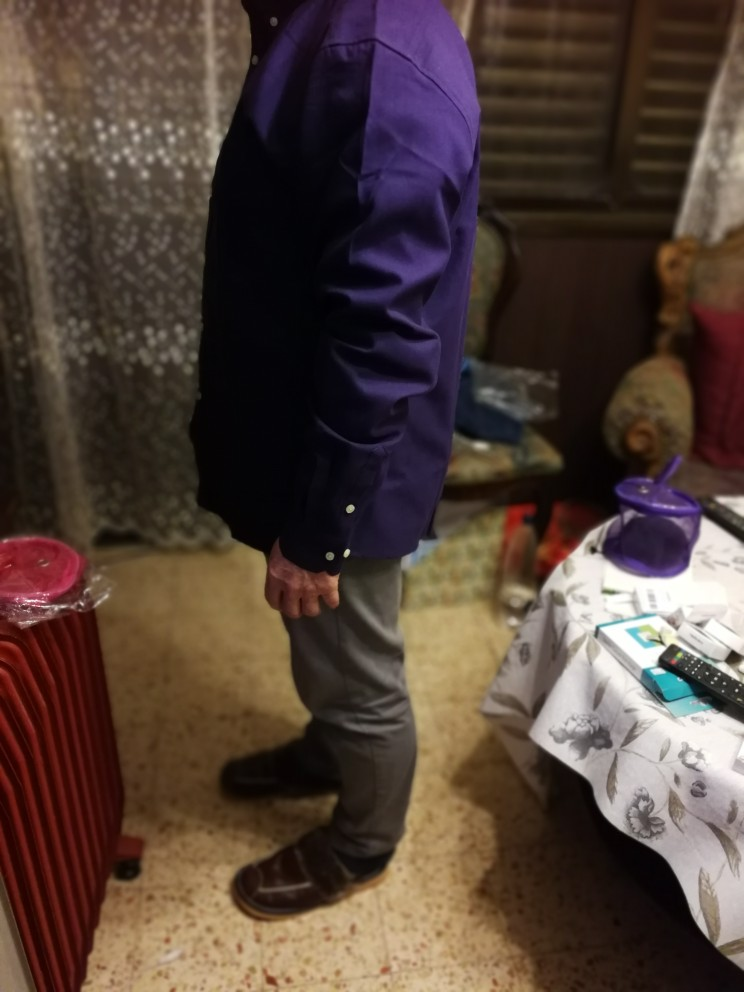shirts: (195, 17, 478, 573)
